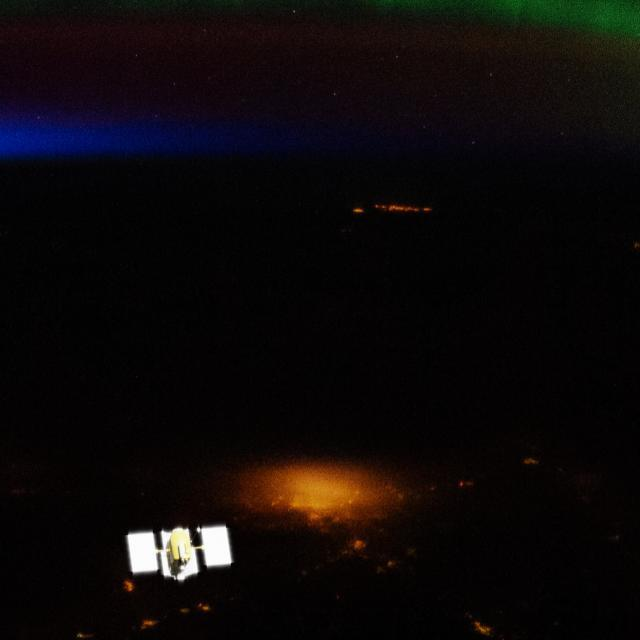medium_debris: (115, 508, 253, 588)
